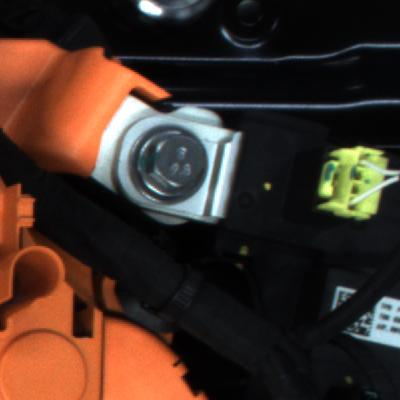nut_b: (119, 126, 227, 217)
